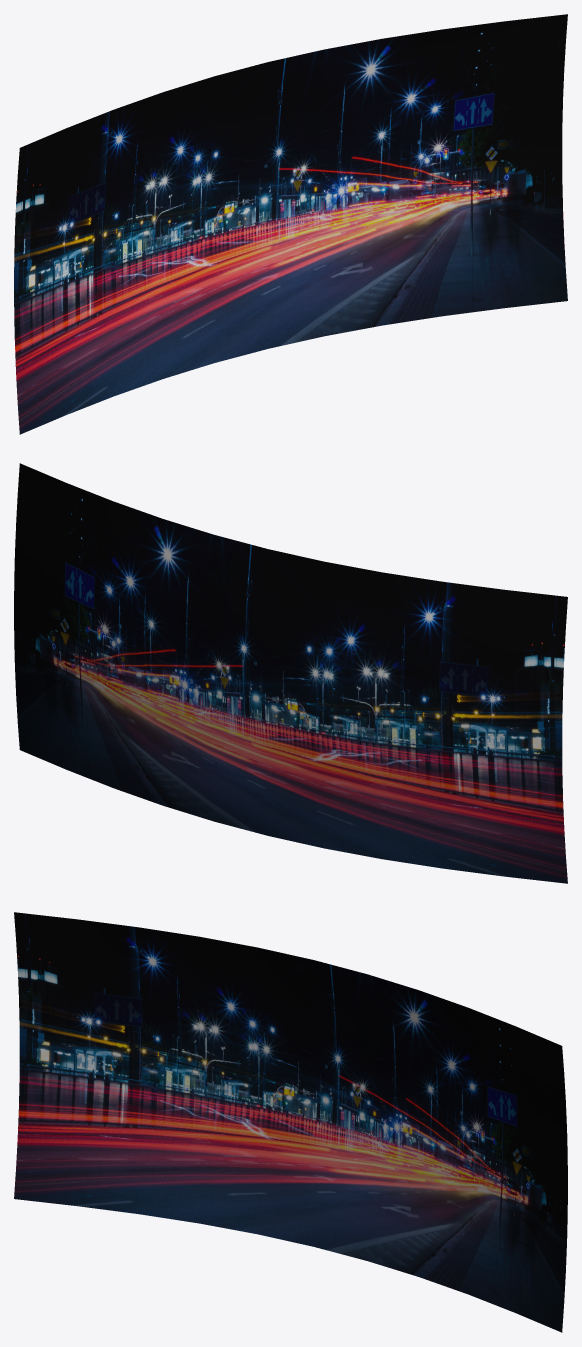
File: C_Movimiento2.fbx
The picture shows the model from 3 angles, top to bottom: view 1: azimuth 30°, elevation 25°; view 2: azimuth 150°, elevation 25°; view 3: azimuth 330°, elevation 25°; orthographic projection.
Parts seen in each view (by area): view 1: pPlane1; view 2: pPlane1; view 3: pPlane1.
Boxes of the visible parts, <box> form: pPlane1: <box>14,14,567,434</box>; pPlane1: <box>14,463,567,883</box>; pPlane1: <box>14,912,567,1332</box>.
Size of the model in its own units: 400 by 200 by 42.49.
1 material, 1 textured.
